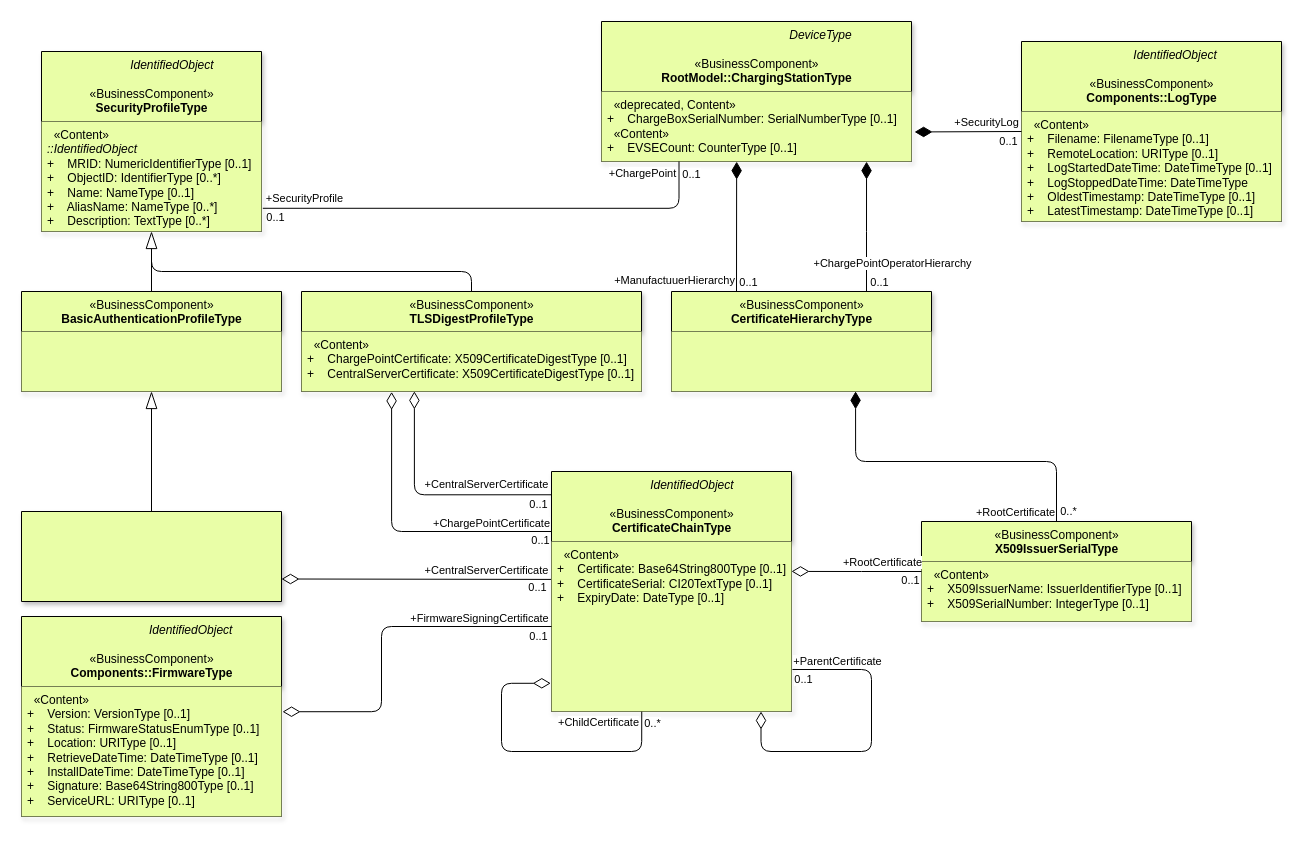
The diagram is 1305 pixels wide and 841 high, and some of its shapes have lost their labels. Here are the shapes that lost their labels. From the top down, the centre of each, then its label:
(151,361): «Content» + UserName: UserNameType [0..1] + Password: PasswordType [0..1]
(801,361): «Content» + Type: CertificateHierarchyCodeType [0..1]
(152,557): « BusinessComponent » TLSBasicAuthenticationProfileType
